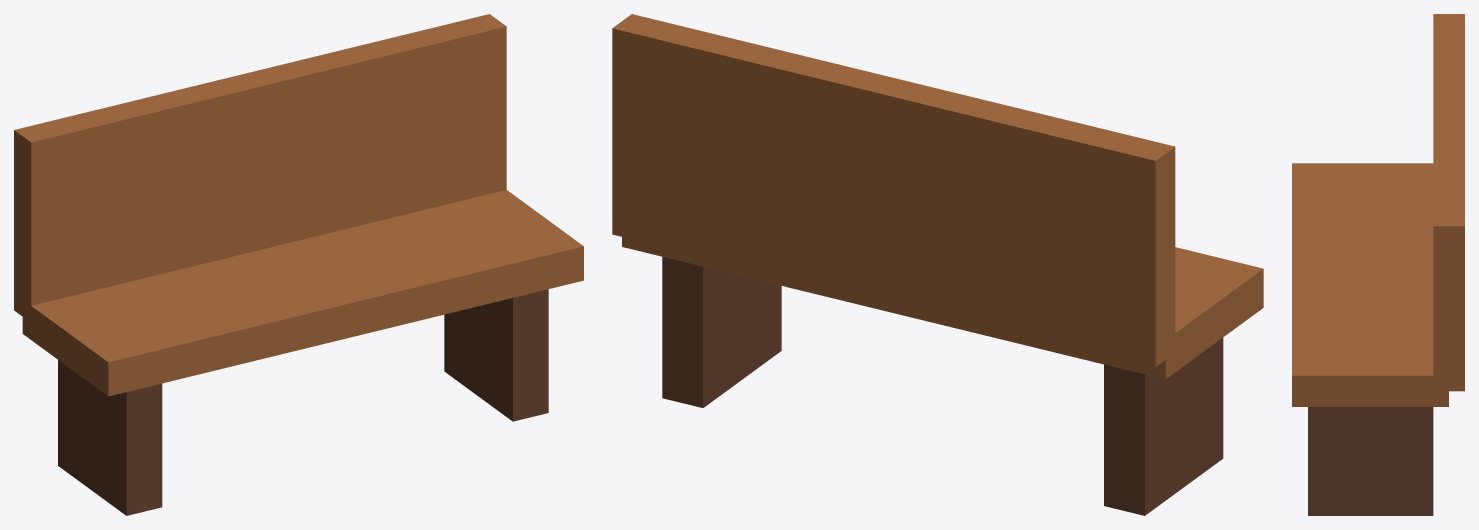
Rendered from prop_bangku.fbx.
3 views of the same model, side by side, from view 1: azimuth 30°, elevation 25°; view 2: azimuth 150°, elevation 25°; view 3: azimuth 270°, elevation 25° (orthographic). The views are drawn at different scales.
Parts seen in each view (by area): view 1: prop_bangku; view 2: prop_bangku; view 3: prop_bangku.
Boxes of the visible parts, <box> form: prop_bangku: <box>14,14,583,515</box>; prop_bangku: <box>612,14,1263,515</box>; prop_bangku: <box>1292,14,1464,515</box>.
Bounding box in the file's own units: 160 × 106 × 55.
Materials: 1 (1 with a texture image).
